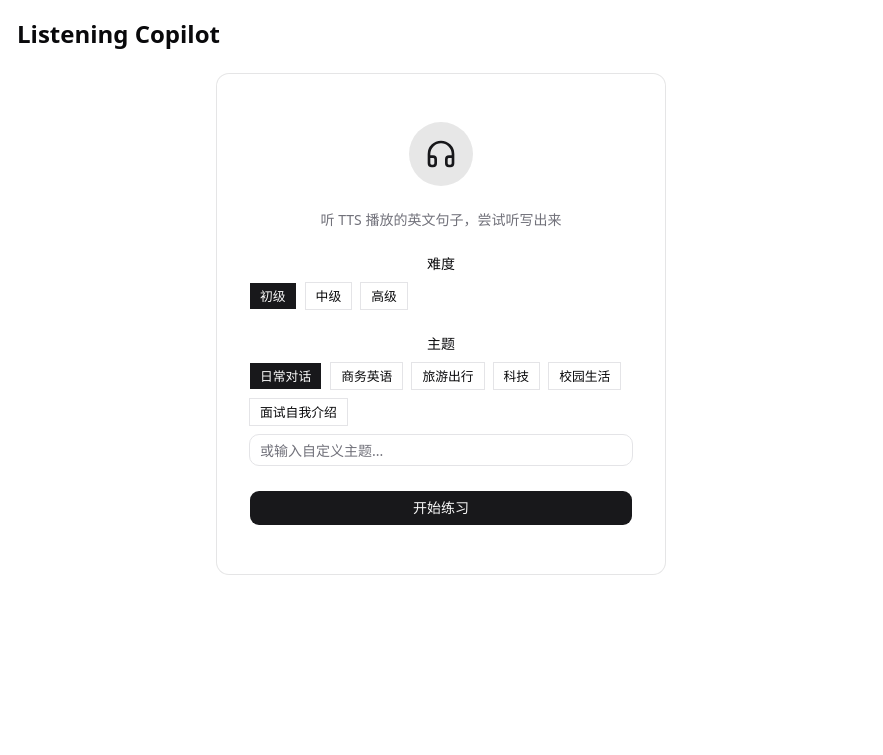
Test case: ListeningPage › transitions to review phase after submitting
What coordinates should you click on to do the following:
click the button "开始练习"
I would click on:
 (441, 508)
Its box is [249, 490, 633, 526].
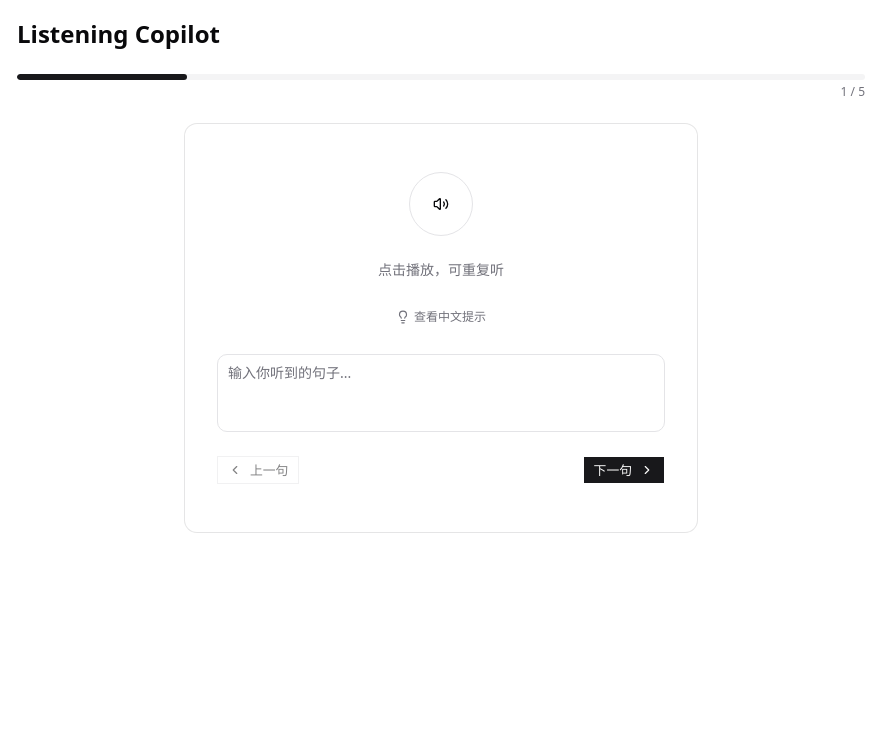
Expected: the button "下一句" is shown
What coordinates should you click on to do the following:
click the button "下一句"
I would click on:
 (624, 470)
Its box is [583, 456, 665, 484].
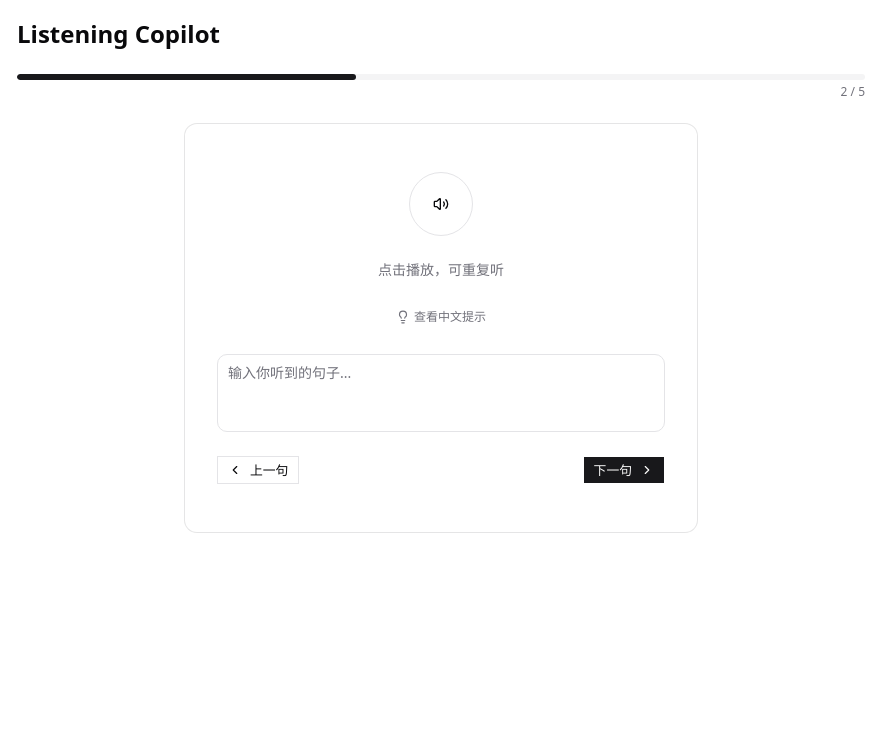
What coordinates should you click on to do the following:
click the button "下一句"
I would click on:
 (624, 470)
Its box is [583, 456, 665, 484].
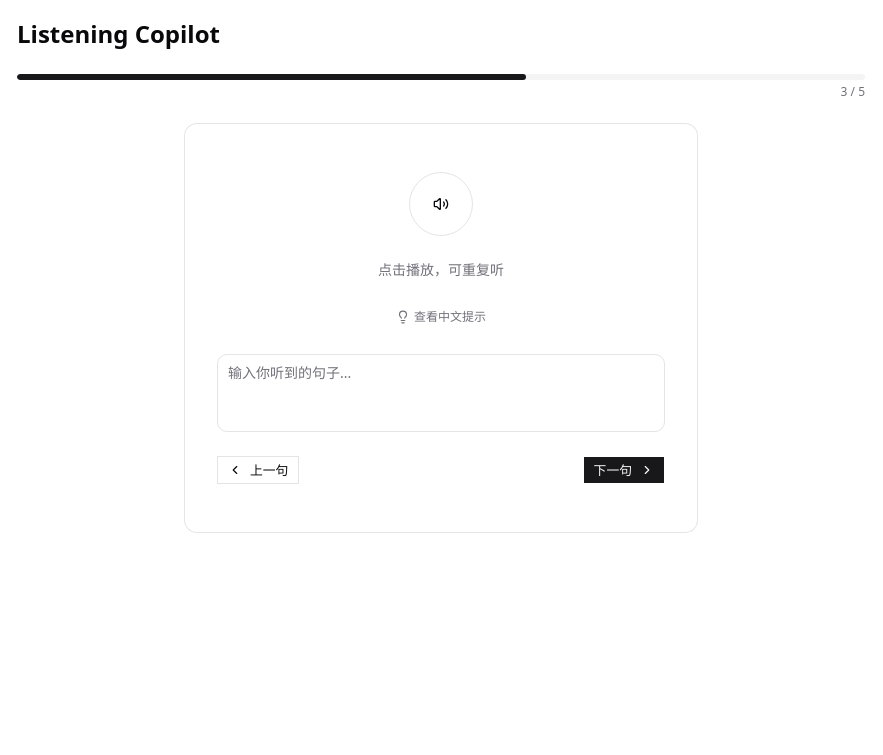
What coordinates should you click on to do the following:
click the button "下一句"
I would click on:
 (624, 470)
Its box is [583, 456, 665, 484].
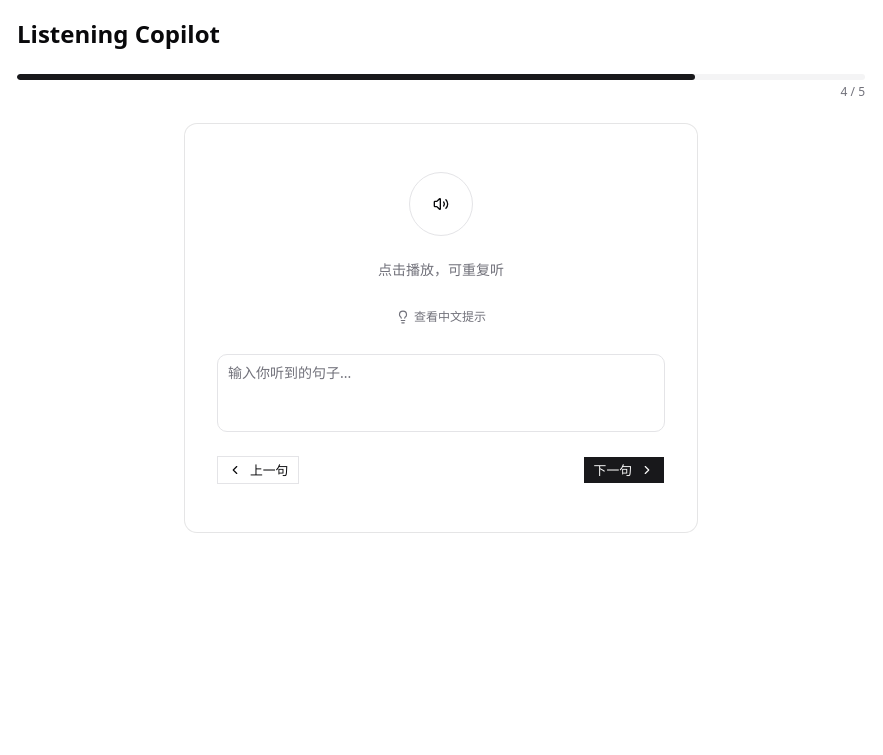
What coordinates should you click on to do the following:
click the button "下一句"
I would click on:
 (624, 470)
Its box is [583, 456, 665, 484].
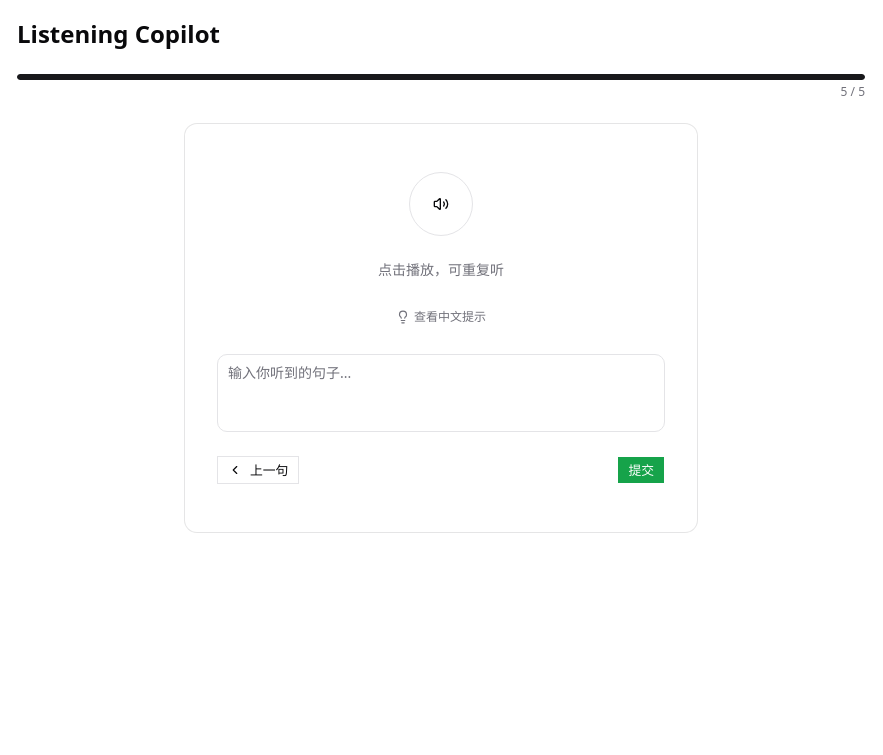
What coordinates should you click on to do the following:
click the button "提交"
I would click on:
 (641, 470)
Its box is [617, 456, 665, 484].
(page scrolled)
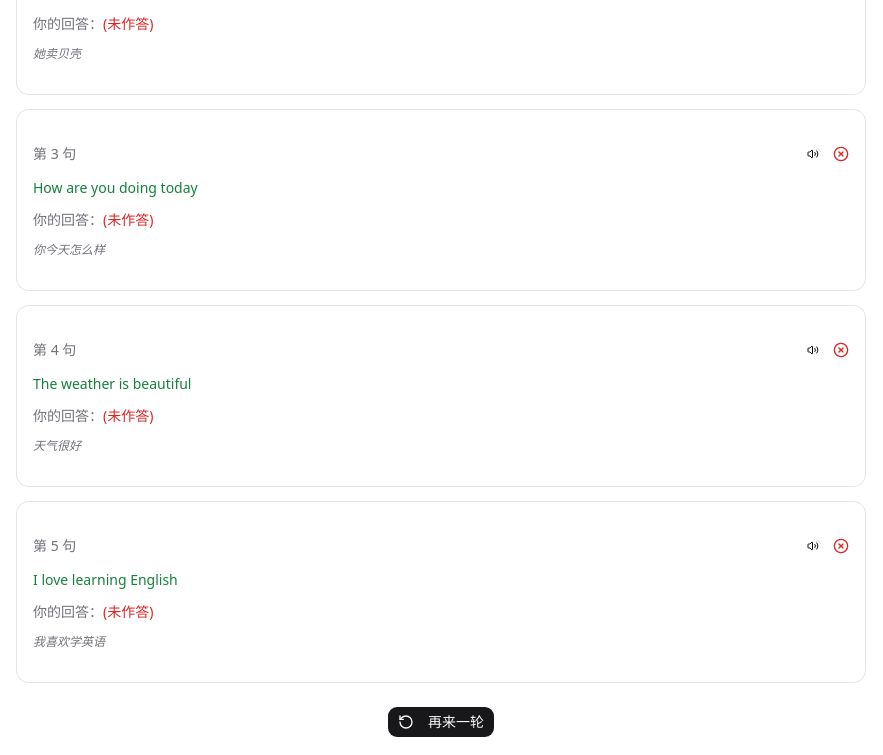
Expected: the button "再来一轮" is shown, [387, 706, 495, 738]
